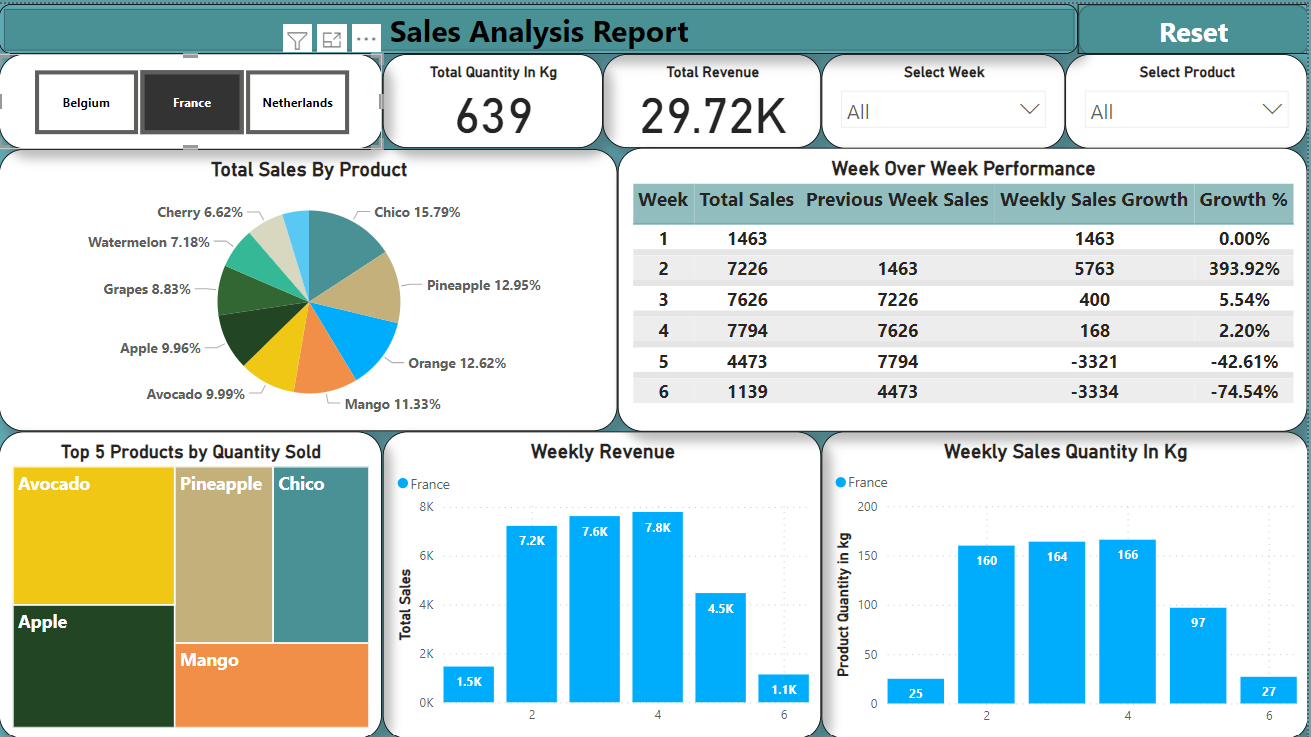

What the dashboard file says about the page in this screenshot:
{"tool":"powerbi","page":{"name":"Page 1","canvas":[1280,720],"ordinal":0},"visuals":[{"type":"slicer","fields":{"Values":["Final table.Country "]},"box":[0,48.9,375.3,92.9],"z":0},{"type":"card","title":"Total Revenue ","fields":{"Values":["Final table.total sales"]},"box":[590.4,48.9,213.9,91.7],"z":1000},{"type":"slicer","title":"Select Week ","fields":{"Values":["Final table.week num"]},"box":[804.3,48.9,238.4,92.9],"z":2000},{"type":"slicer","title":"Select Product","fields":{"Values":["Final table.product_name"]},"box":[1042.7,48.9,237.1,92.9],"z":3000},{"type":"pieChart","title":"Total Sales By Product ","fields":{"Y":["Final table.total sales"],"Category":["Final table.product_name"]},"box":[0,141.8,605.1,276.3],"z":4000},{"type":"columnChart","title":"Weekly Sales Quantity In Kg","fields":{"Category":["Final table.week num"],"Y":["Sum(Final table.weight_kg)"],"Series":["Final table.Country "]},"box":[804.1,418.5,476.2,301.9],"z":5000},{"type":"columnChart","title":"Weekly Revenue ","fields":{"Y":["Final table.total sales"],"Category":["Final table.week num"],"Series":["Final table.Country "]},"box":[375.3,418.1,429.1,301.9],"z":6000},{"type":"tableEx","title":"Week Over Week Performance ","fields":{"Values":["Final table.week num","Final table.total sales","Final table.previous week","Final table.wow","Final table.Growth %"]},"box":[605.1,140.6,674.8,277.5],"z":7000},{"type":"treemap","title":"Top 5 Products by Quantity Sold","fields":{"Group":["Final table.product_name"],"Values":["Sum(Final table.weight_kg)"]},"box":[0,418.1,374.1,301.9],"z":8000},{"type":"shape","title":"Sal","box":[0,0,1054.9,48.9],"z":9000},{"type":"card","title":"Total Quantity In Kg","fields":{"Values":["Sum(Final table.weight_kg)"]},"box":[375.3,48.9,215.1,91.7],"z":10000},{"type":"shape","box":[1054.9,0,224.9,48.9],"z":11000}]}

Visuals, with their boxes in screenshot pixels (x1, y1, x2, y2), scaled from the page's 1280x720 canvas onto the 1311x737 screenshot:
slicer - Final table.Country : [x1=0, y1=50, x2=384, y2=145]
"Total Revenue " card: [x1=605, y1=50, x2=824, y2=144]
"Select Week " slicer: [x1=824, y1=50, x2=1068, y2=145]
"Select Product" slicer: [x1=1068, y1=50, x2=1310, y2=145]
"Total Sales By Product " pieChart: [x1=0, y1=145, x2=620, y2=428]
"Weekly Sales Quantity In Kg" columnChart: [x1=824, y1=428, x2=1310, y2=736]
"Weekly Revenue " columnChart: [x1=384, y1=428, x2=824, y2=736]
"Week Over Week Performance " tableEx: [x1=620, y1=144, x2=1310, y2=428]
"Top 5 Products by Quantity Sold" treemap: [x1=0, y1=428, x2=383, y2=736]
"Sal" shape: [x1=0, y1=0, x2=1080, y2=50]
"Total Quantity In Kg" card: [x1=384, y1=50, x2=605, y2=144]
shape: [x1=1080, y1=0, x2=1310, y2=50]
